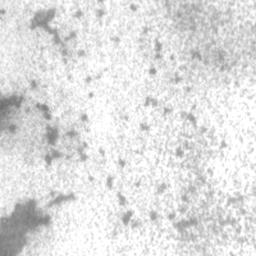Pitted surface: (0, 0, 256, 256), (0, 7, 21, 37)
